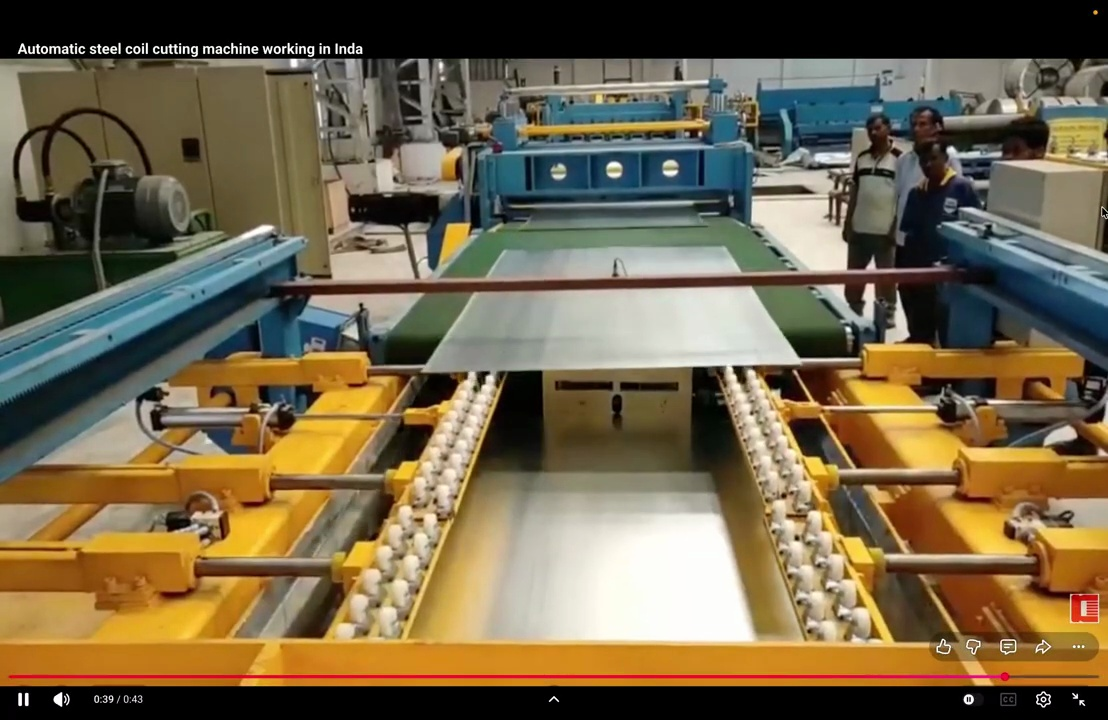steel plate: (425, 288, 799, 372), (520, 207, 704, 230)
